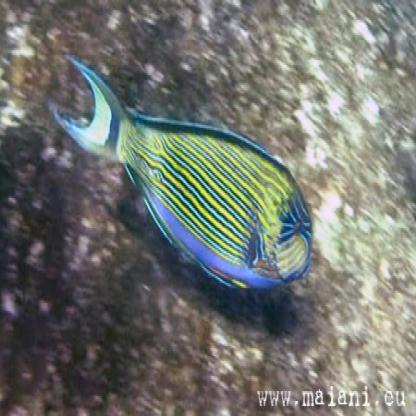surgeon: (53, 39, 323, 302)
